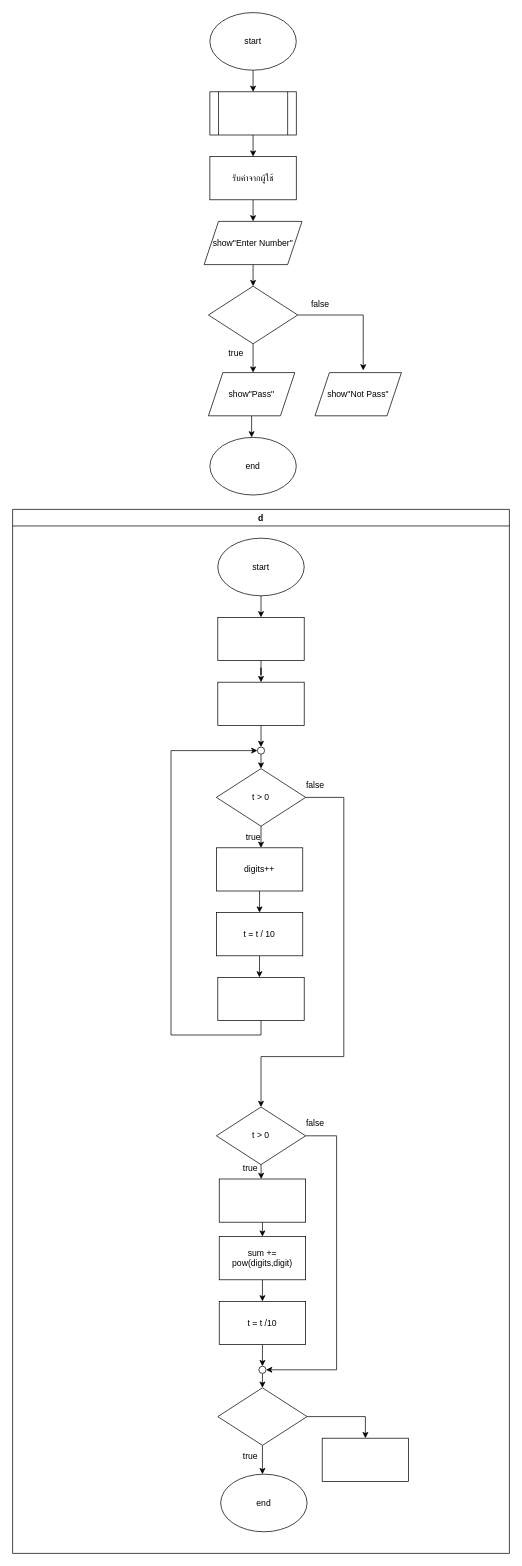
Image size: 522x1566. Some labels were removed from this diagram. The shapes that lost their labels are listed below. From the top down, each one's centre as x and y in pixels, then its label:
At point (252, 113): "isArmstrong".
At point (253, 314): "isArmstronng?".
At point (260, 639): "รับค่า num".
At point (260, 703): "t = num".
At point (260, 999): "t = num sum = 0".
At point (262, 1200): "digit = t % 10".
At point (262, 1416): "sum == temp".
At point (365, 1459): "return".
